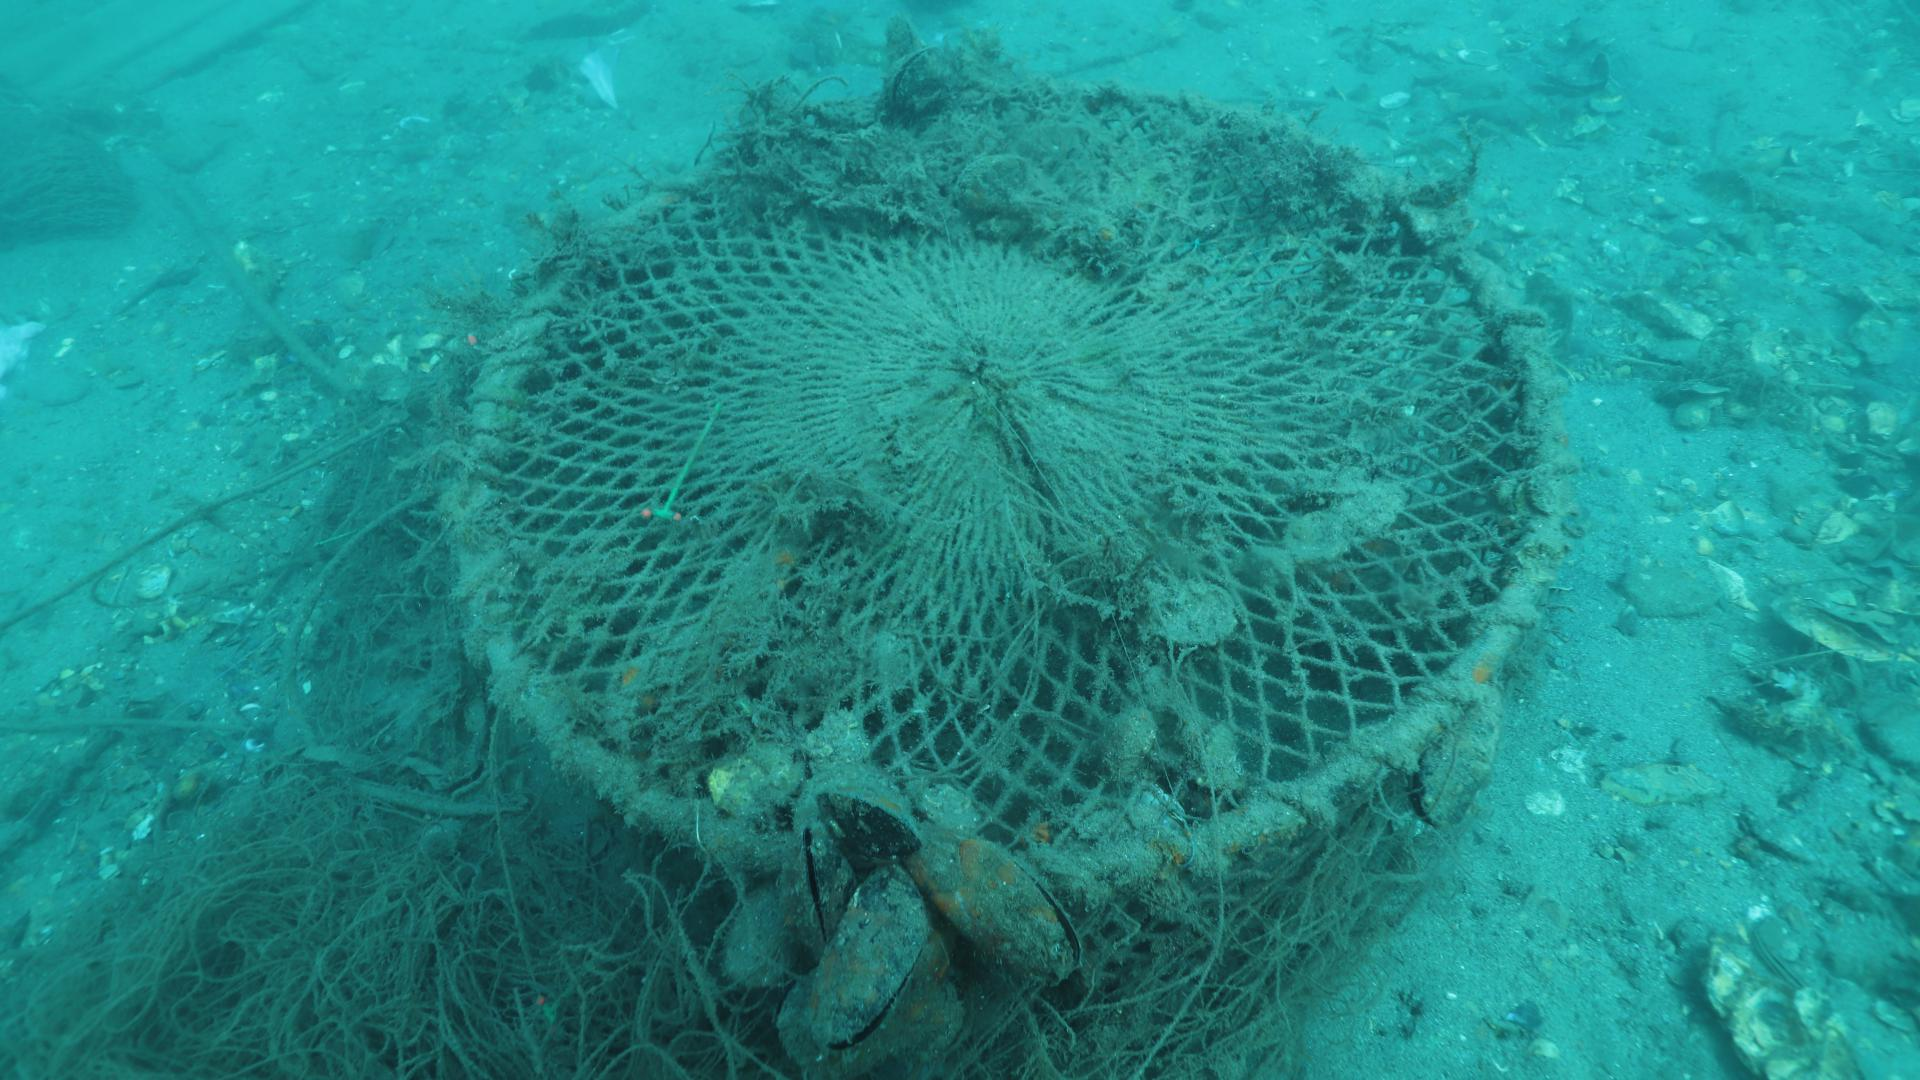circular fish trap: (444, 80, 1565, 975)
